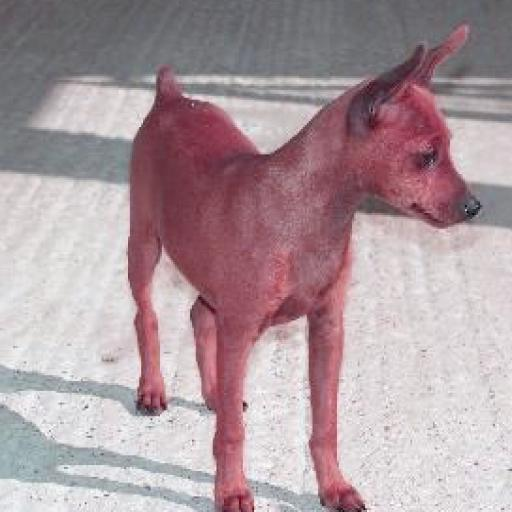dog_face: (351, 32, 483, 230)
